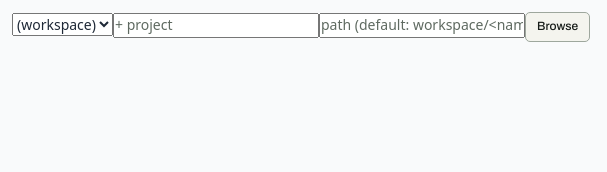
Test case: ProjectSwitcher (Phase 4 outside-workspace + recents) › renders the outside-workspace notice when the path sits outside the workspace
This screenshot has width=607, height=172.
Type "/somewhere/else" into the field named "New project root path".
click(422, 25); type("/somewhere/else")  # box x1=319 y1=13 x2=525 y2=38
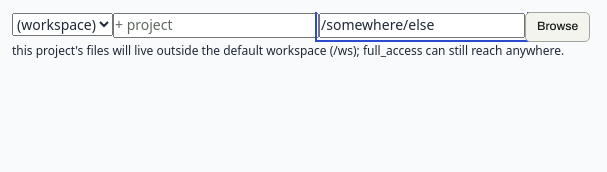
expect the text "outside the default workspace" is shown: met, box x1=12 y1=42 x2=564 y2=59
expect the text "/ws" is shown: met, box x1=12 y1=42 x2=564 y2=59
